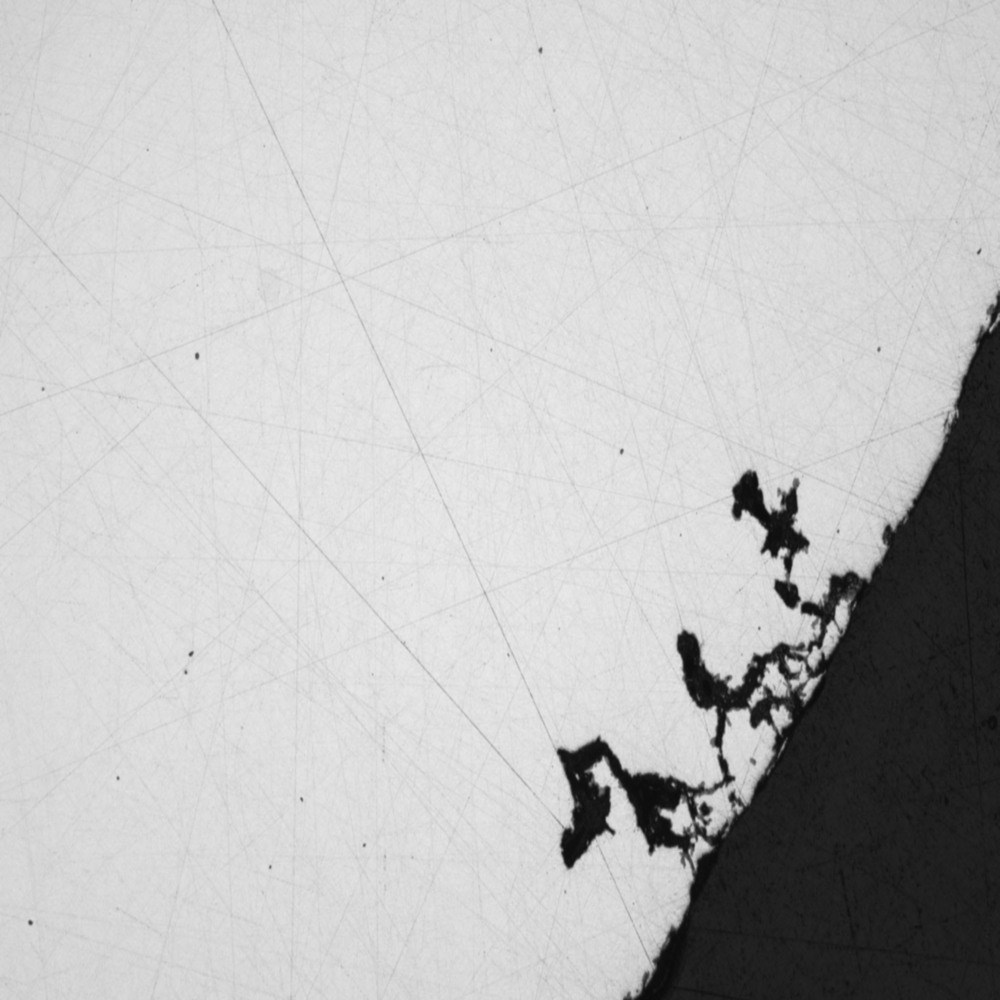crack: (547, 718, 728, 882), (713, 456, 874, 626), (676, 624, 818, 765)
